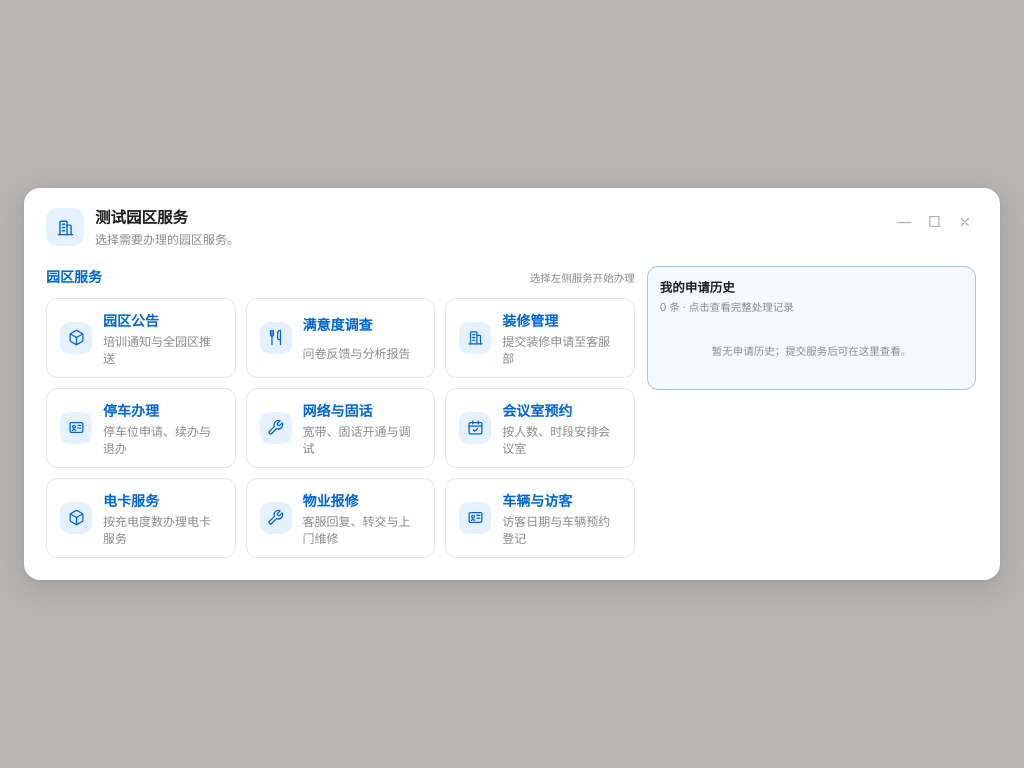
Test: ParkServicesPlugin › 普通用户只看到真实申请表，不出现后台人员或模拟入口
Click the text "会议室预约" at (537, 410), box [502,402,572,419]
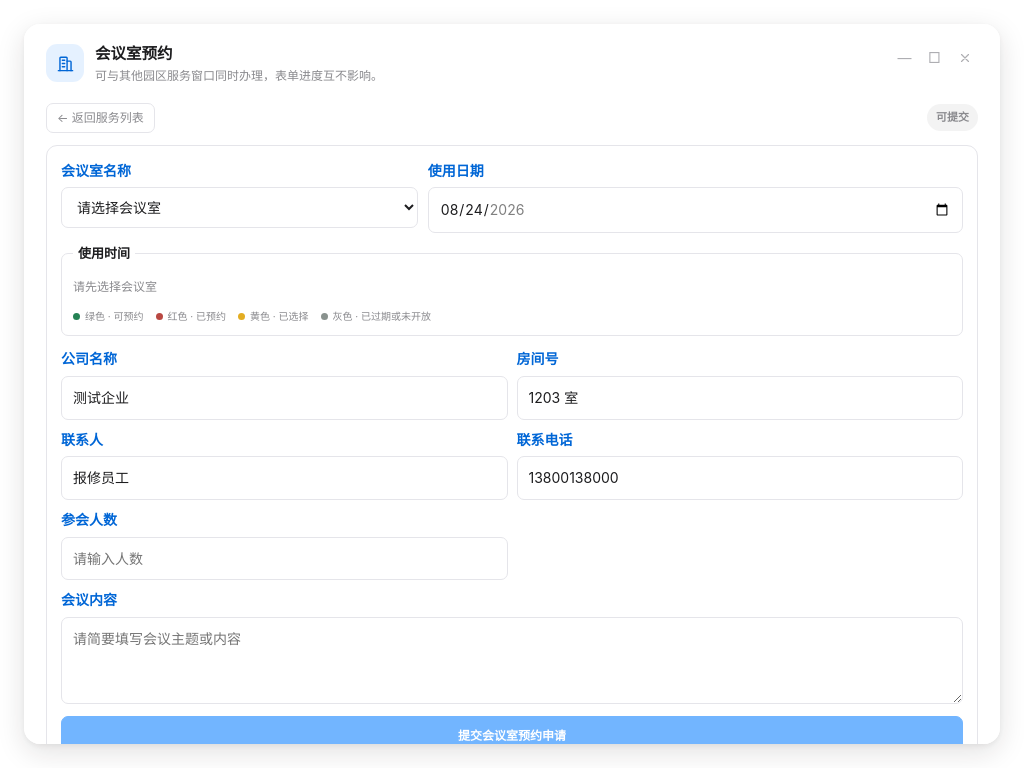
Now the form named "会议室预约申请表" is shown
